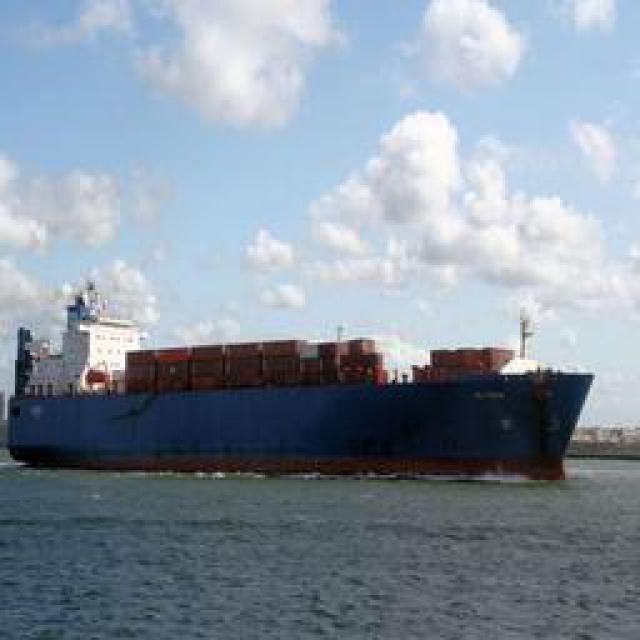Ship: (5, 318, 625, 476)
